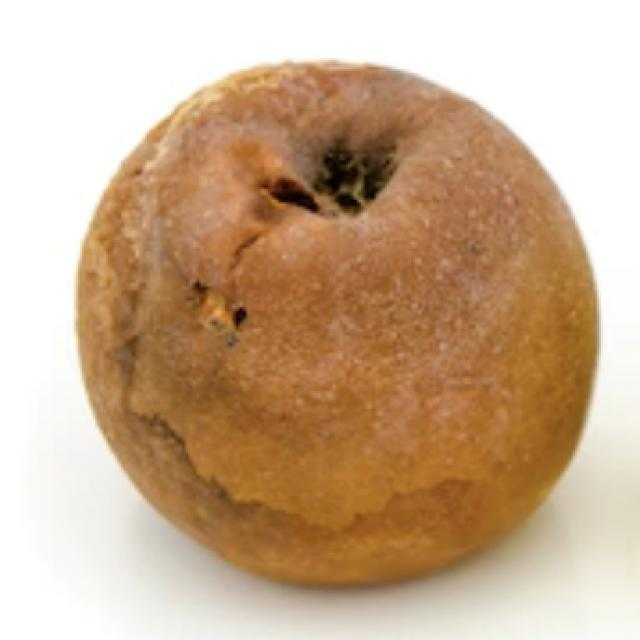Rotten: (87, 78, 605, 570)
